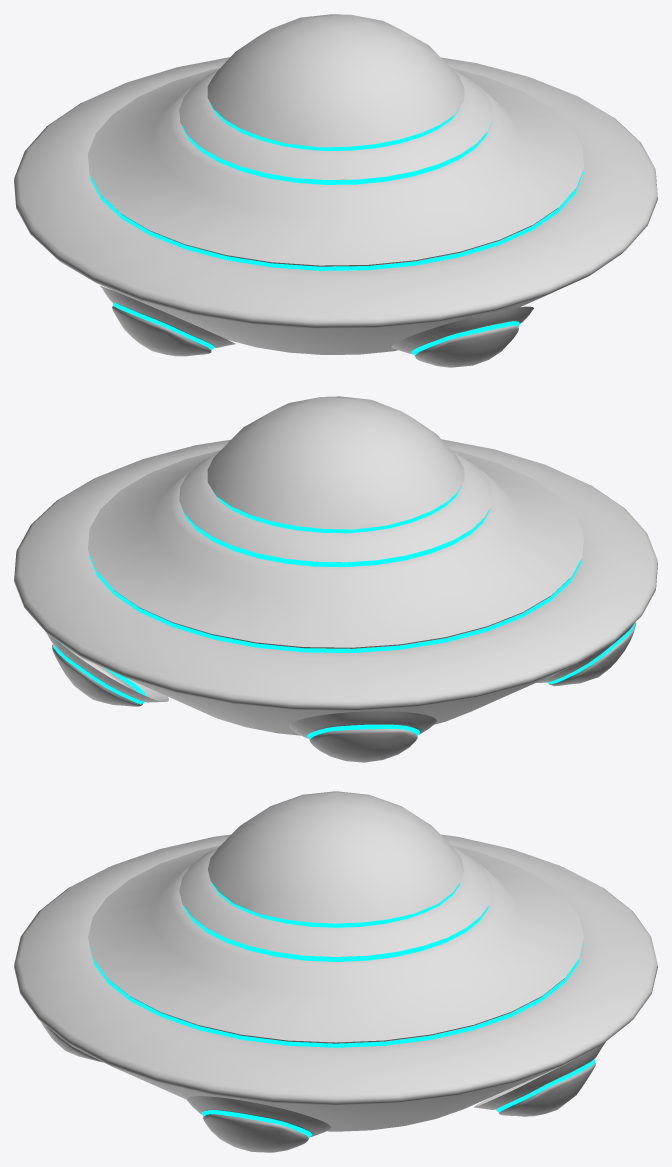
Rendered from spaceship2.glb.
The picture shows the model from 3 angles, top to bottom: view 1: azimuth 30°, elevation 25°; view 2: azimuth 150°, elevation 25°; view 3: azimuth 270°, elevation 25°; orthographic projection.
Parts seen in each view (by area): view 1: Cylinder; view 2: Cylinder; view 3: Cylinder.
Part boxes in pixels (box(x1,y1,x2,y2)): Cylinder: box(14, 14, 657, 367); Cylinder: box(14, 396, 657, 762); Cylinder: box(14, 791, 657, 1152).
Bounding box in the file's own units: 4.57 × 1.97 × 4.57.
